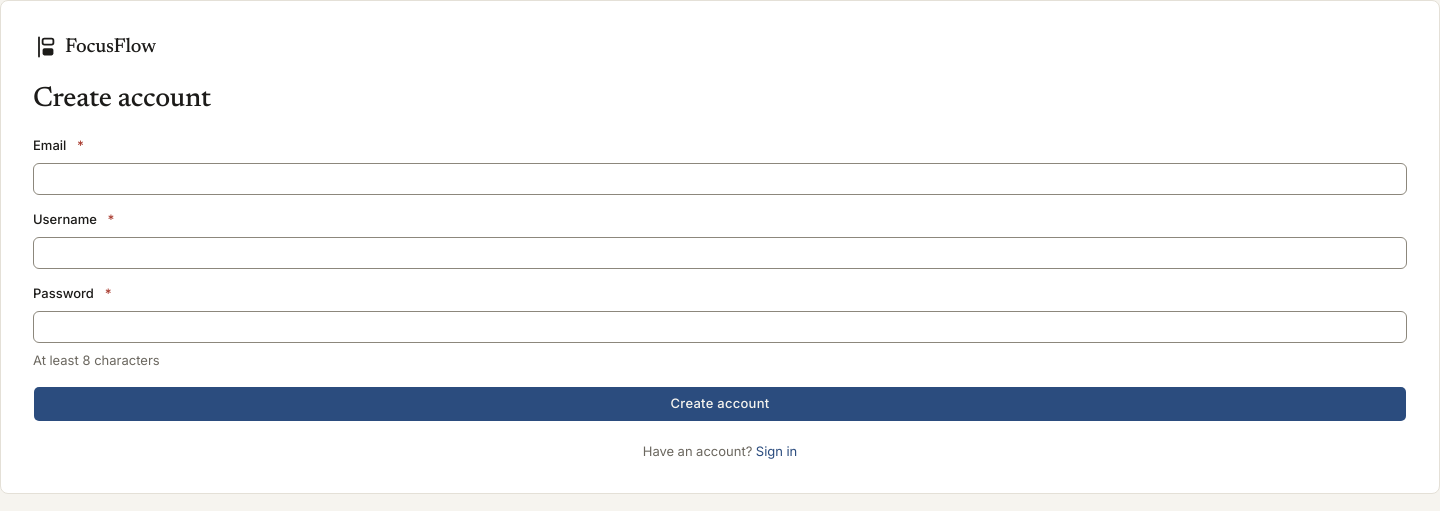
Scenario: RegisterForm › rejects a password shorter than 8 characters
The image size is (1440, 511).
Step 1. Type "new@example.com" into the field labelled "Email *" → x=720, y=179, box [33,163,1407,195]
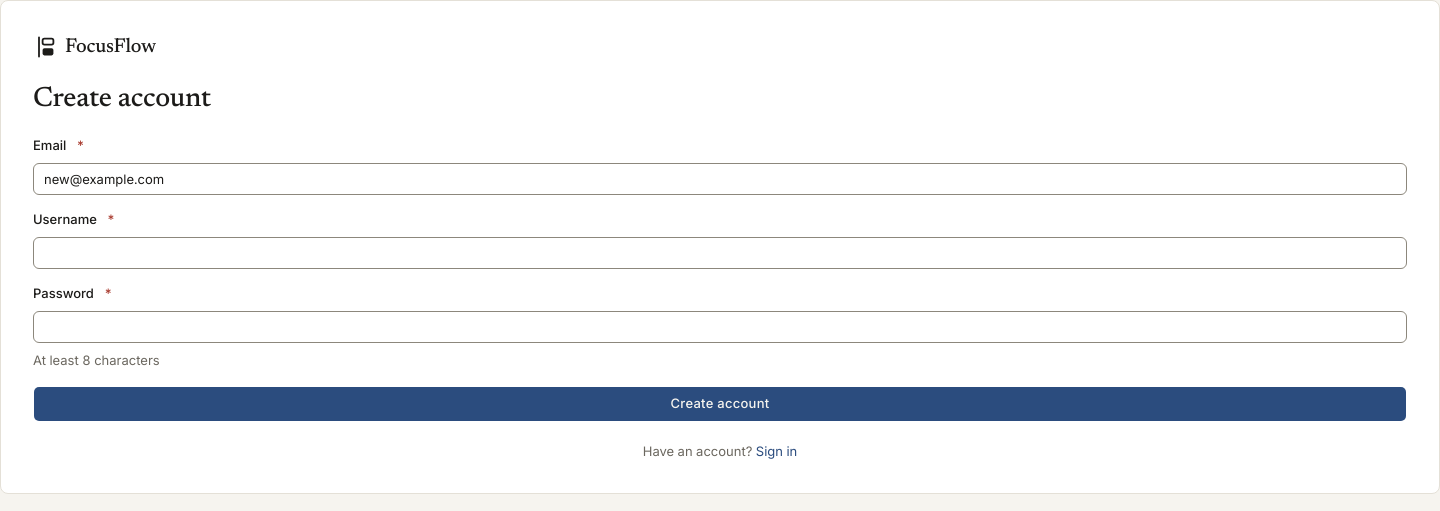
Step 2. Type "newuser" into the field labelled "Username *" → x=720, y=253, box [33,237,1407,269]
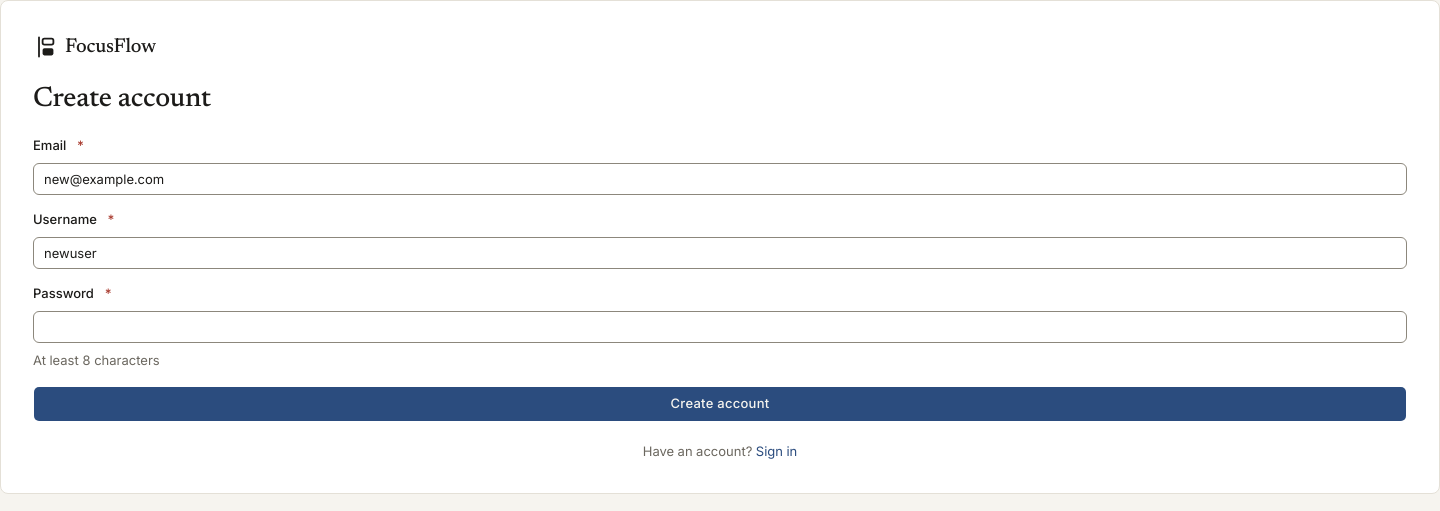
Step 3. Type "1234567" into the password field labelled "Password *" → x=720, y=327, box [33,311,1407,343]
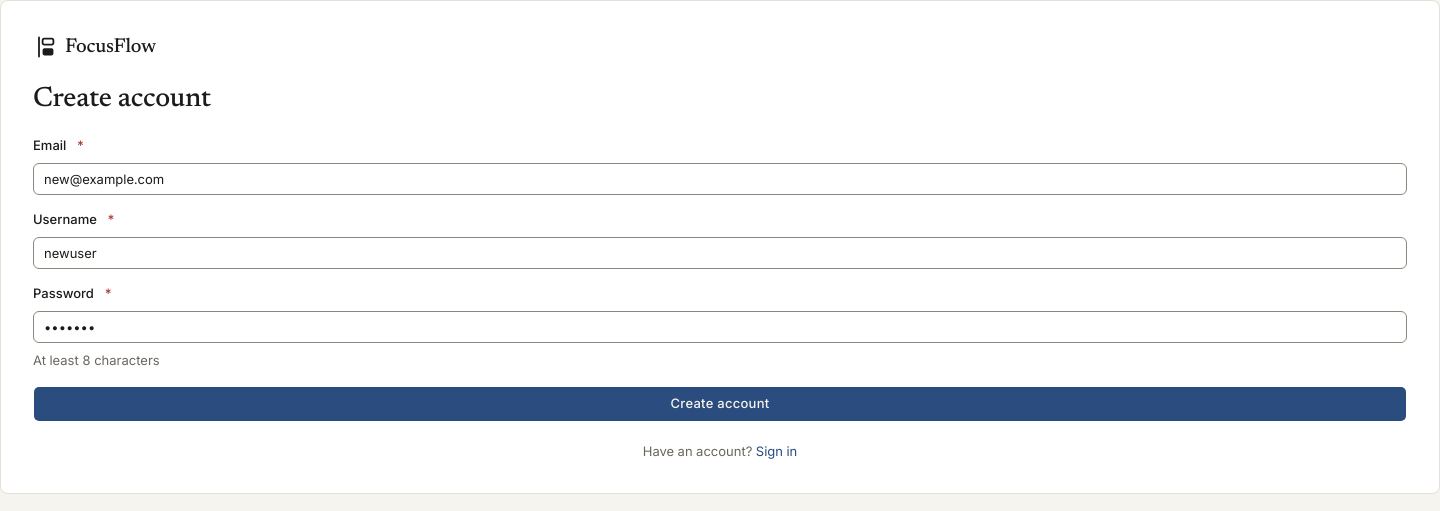
Step 4. Submit the form, box [33,137,1407,422]
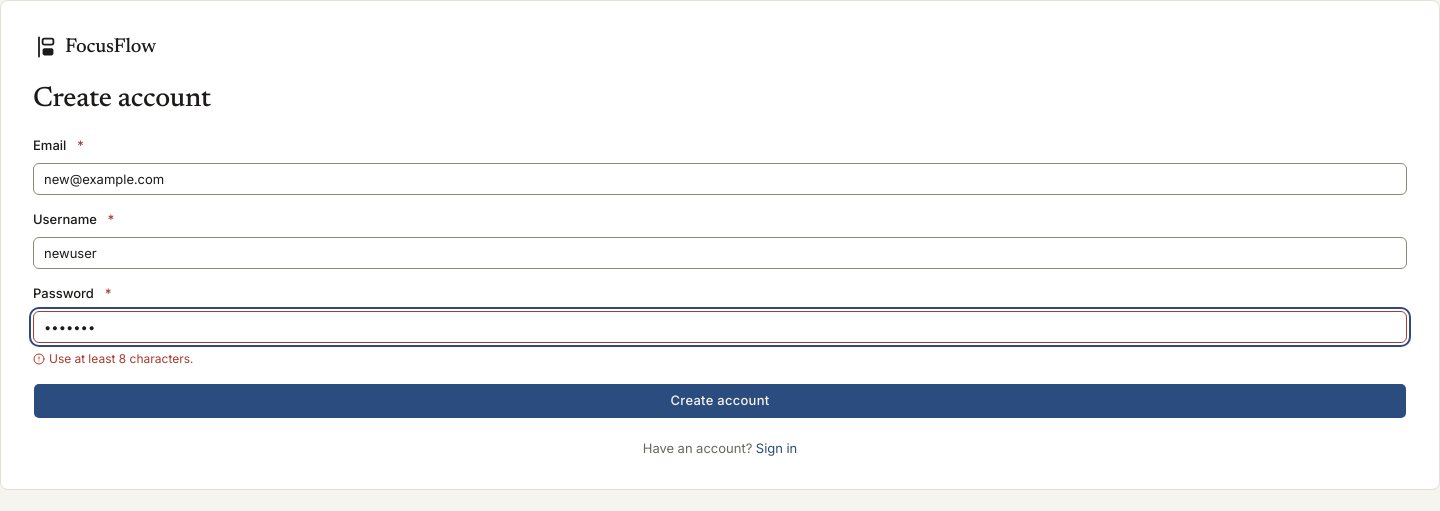
Now the text "Use at least 8 characters." is shown, box [49,351,193,367]
